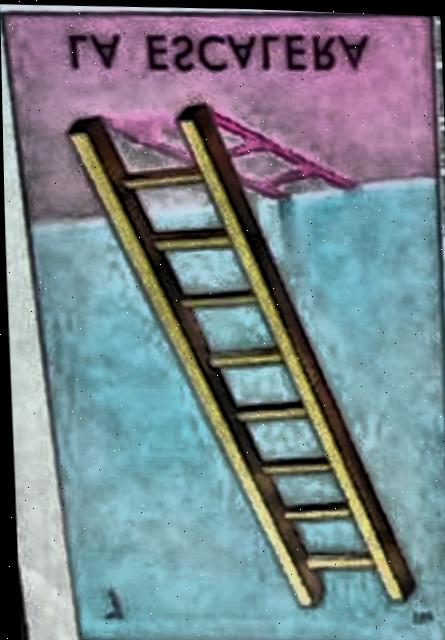La Escalera: (3, 11, 445, 640)
